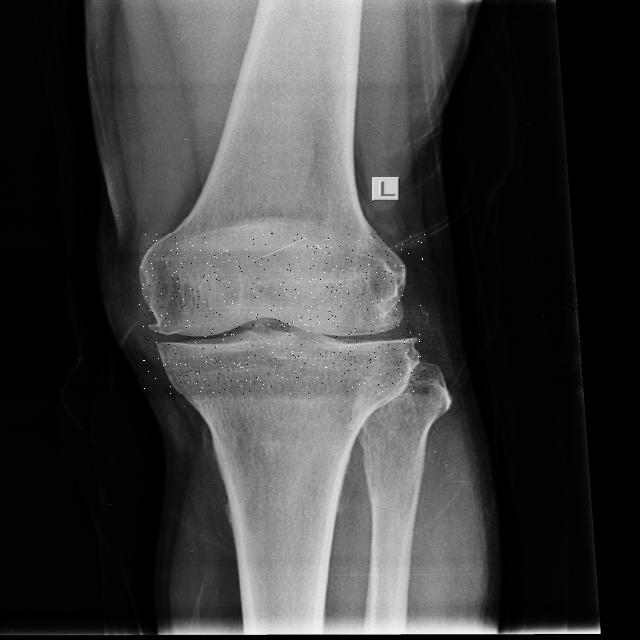osteo: (140, 233, 426, 394)
